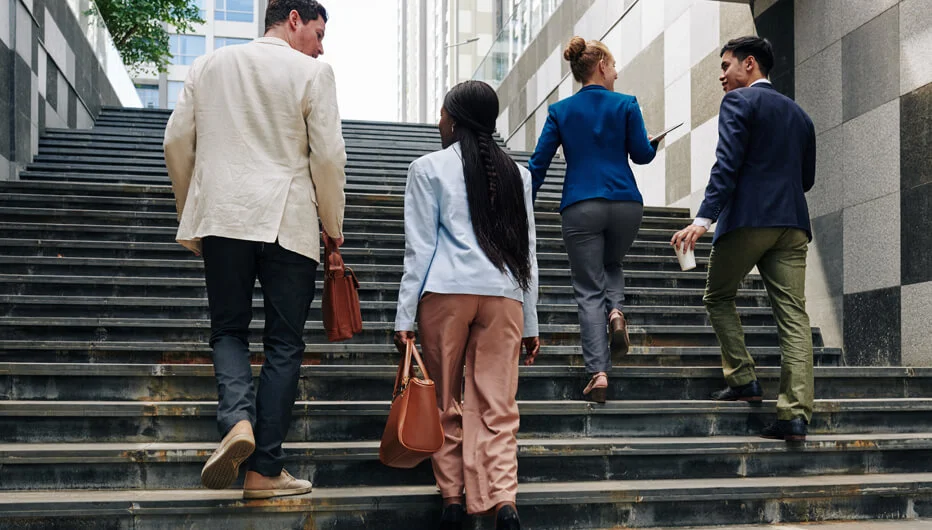person: (159, 1, 367, 524), (382, 74, 543, 530), (662, 32, 824, 449), (516, 32, 687, 408)
